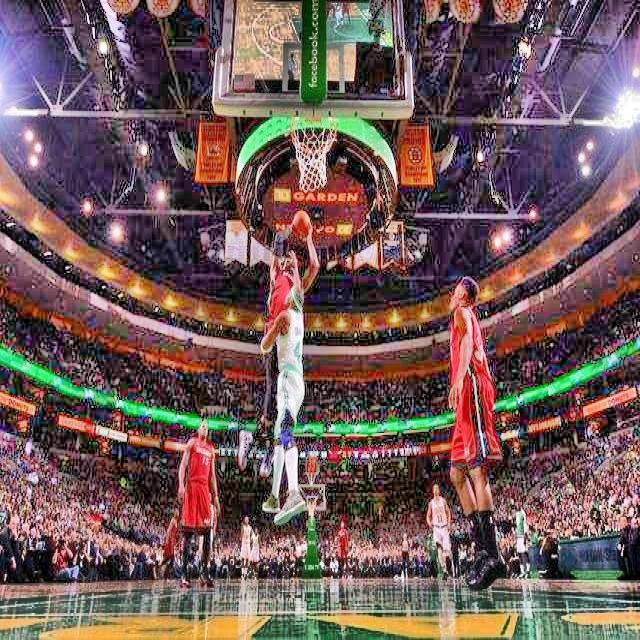board: (291, 210, 310, 238)
rim: (233, 112, 398, 267)
